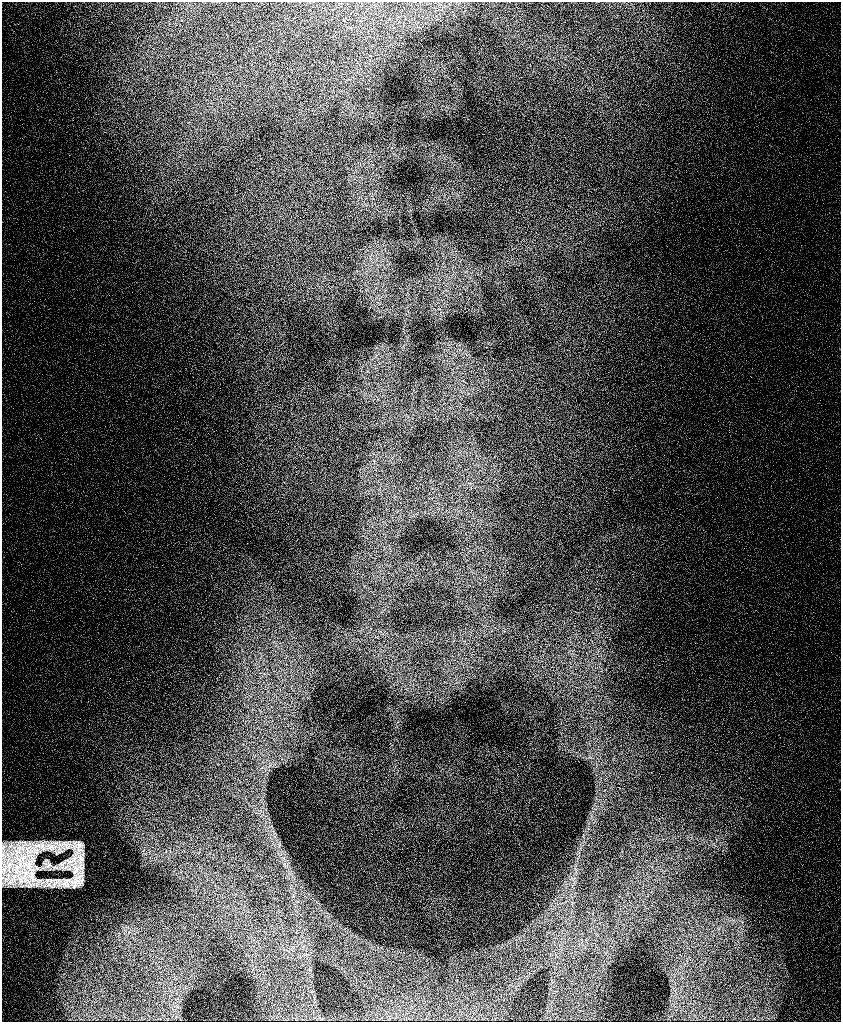lumbar scoliosis: (319, 119, 503, 675)
